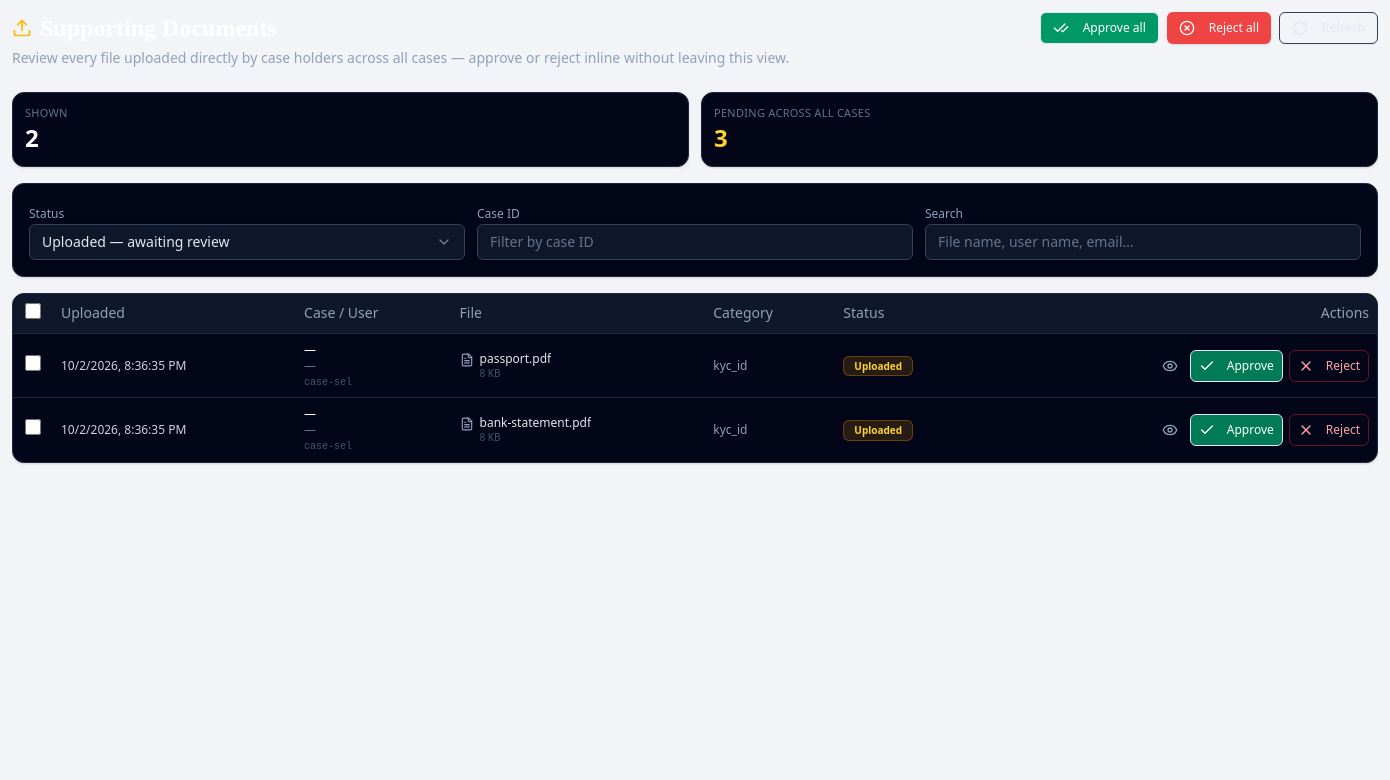
SupportingDocumentsTab – checkbox selection (Task #446) › clicking select-all again deselects all
Click the checkbox with test id "checkbox-select-all-supporting-docs".
click(33, 311)  # box [25,303,41,319]
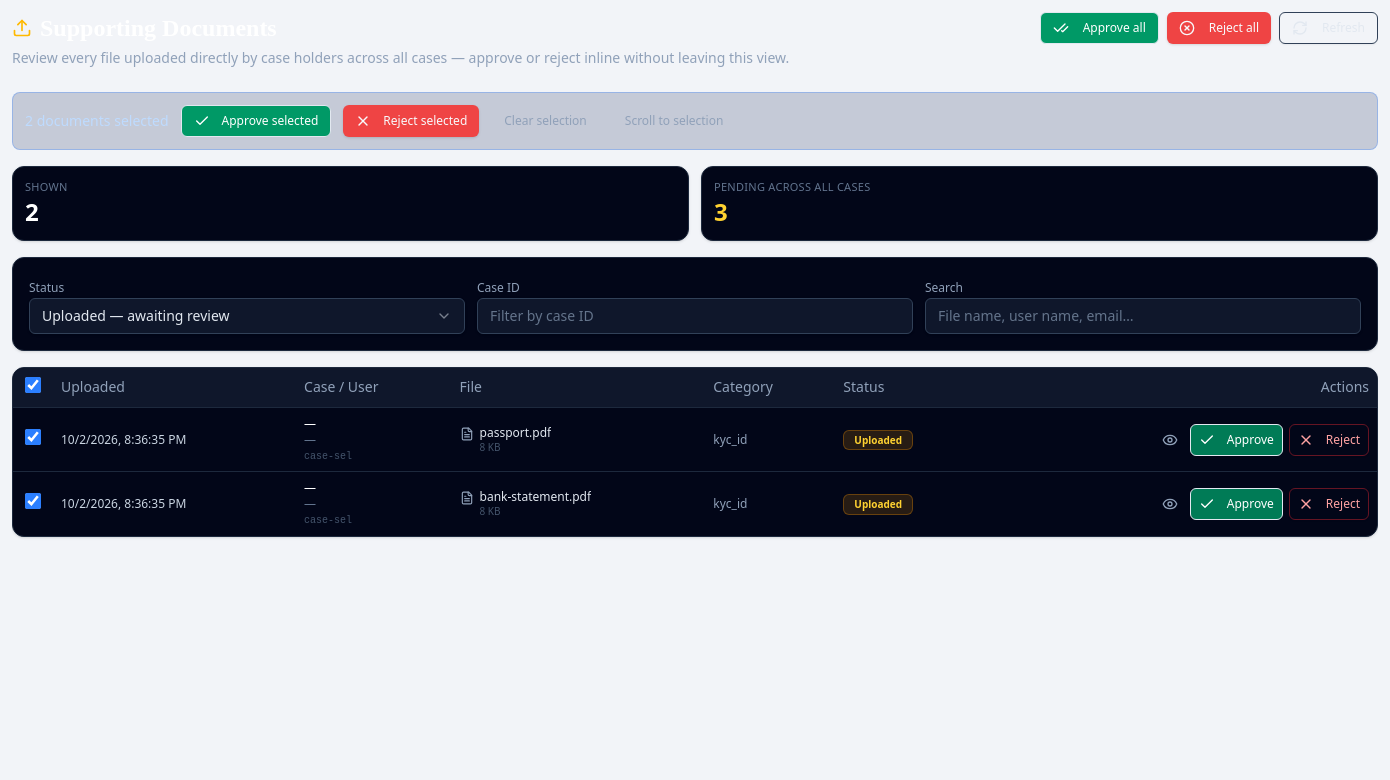
Expected: the checkbox with test id "checkbox-supporting-doc-20" is checked, [25,429,41,445]
Click the checkbox with test id "checkbox-select-all-supporting-docs".
click(33, 385)  # box [25,377,41,393]
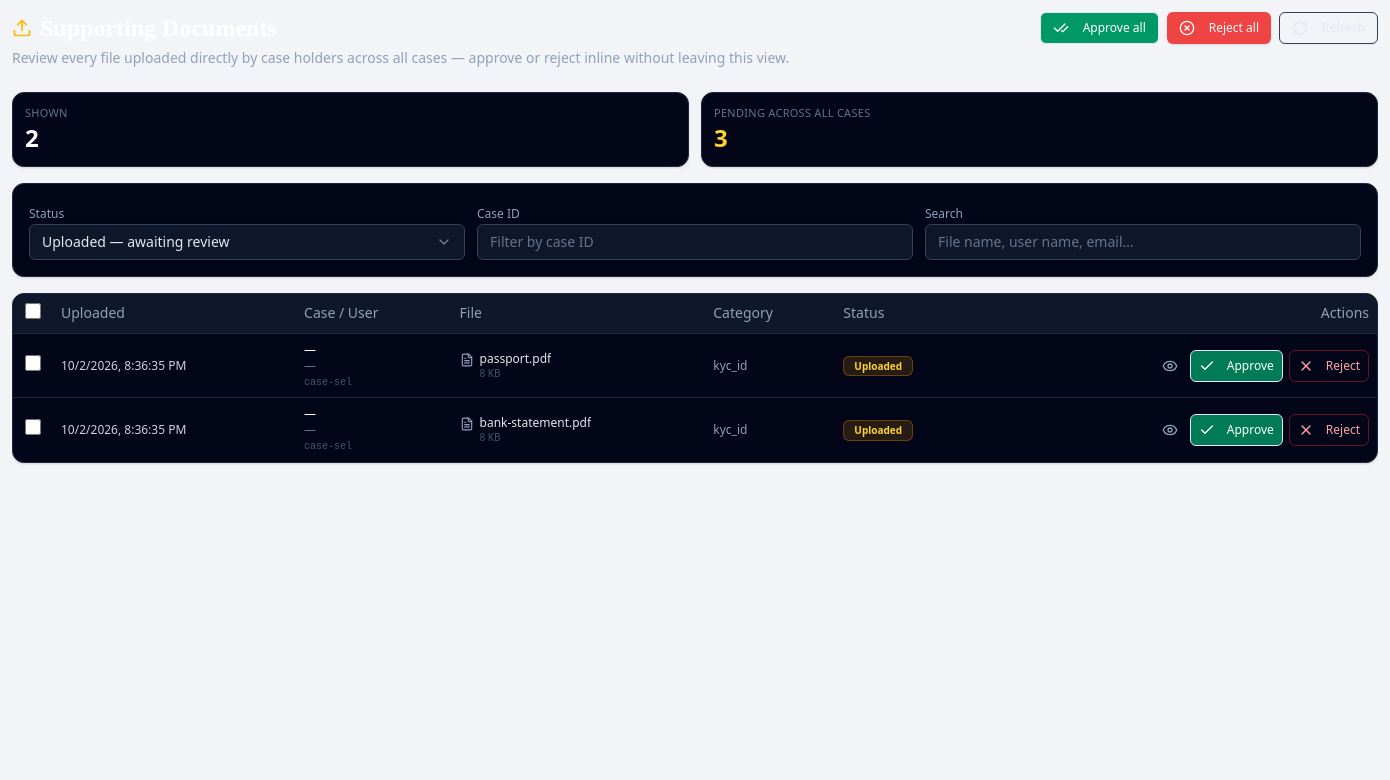
Expected: the checkbox with test id "checkbox-supporting-doc-20" is not checked, [25,355,41,371]
